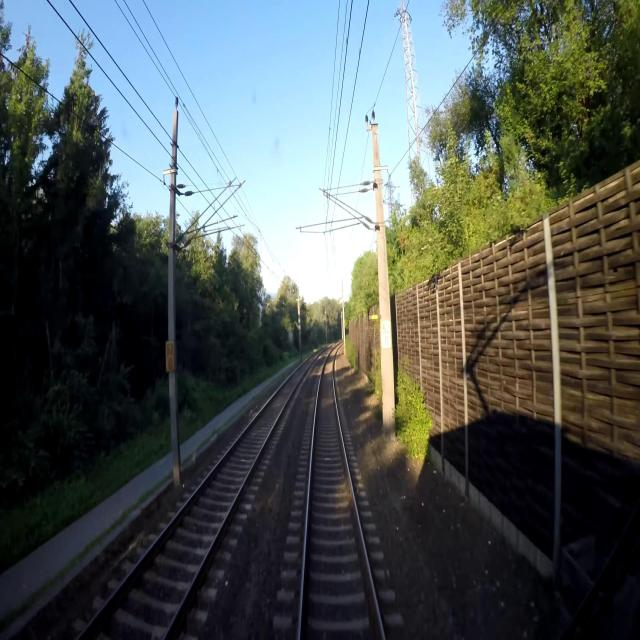rail-track: (81, 361, 309, 639), (302, 351, 381, 639)
